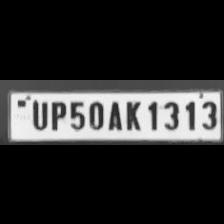0: (85, 97, 105, 129)
1: (142, 97, 160, 130), (180, 97, 198, 130)
3: (160, 97, 180, 130), (198, 97, 218, 130)
5: (66, 97, 86, 130)
A: (105, 97, 123, 130)
K: (122, 97, 142, 131)
P: (47, 98, 67, 130)
U: (28, 98, 48, 130)
